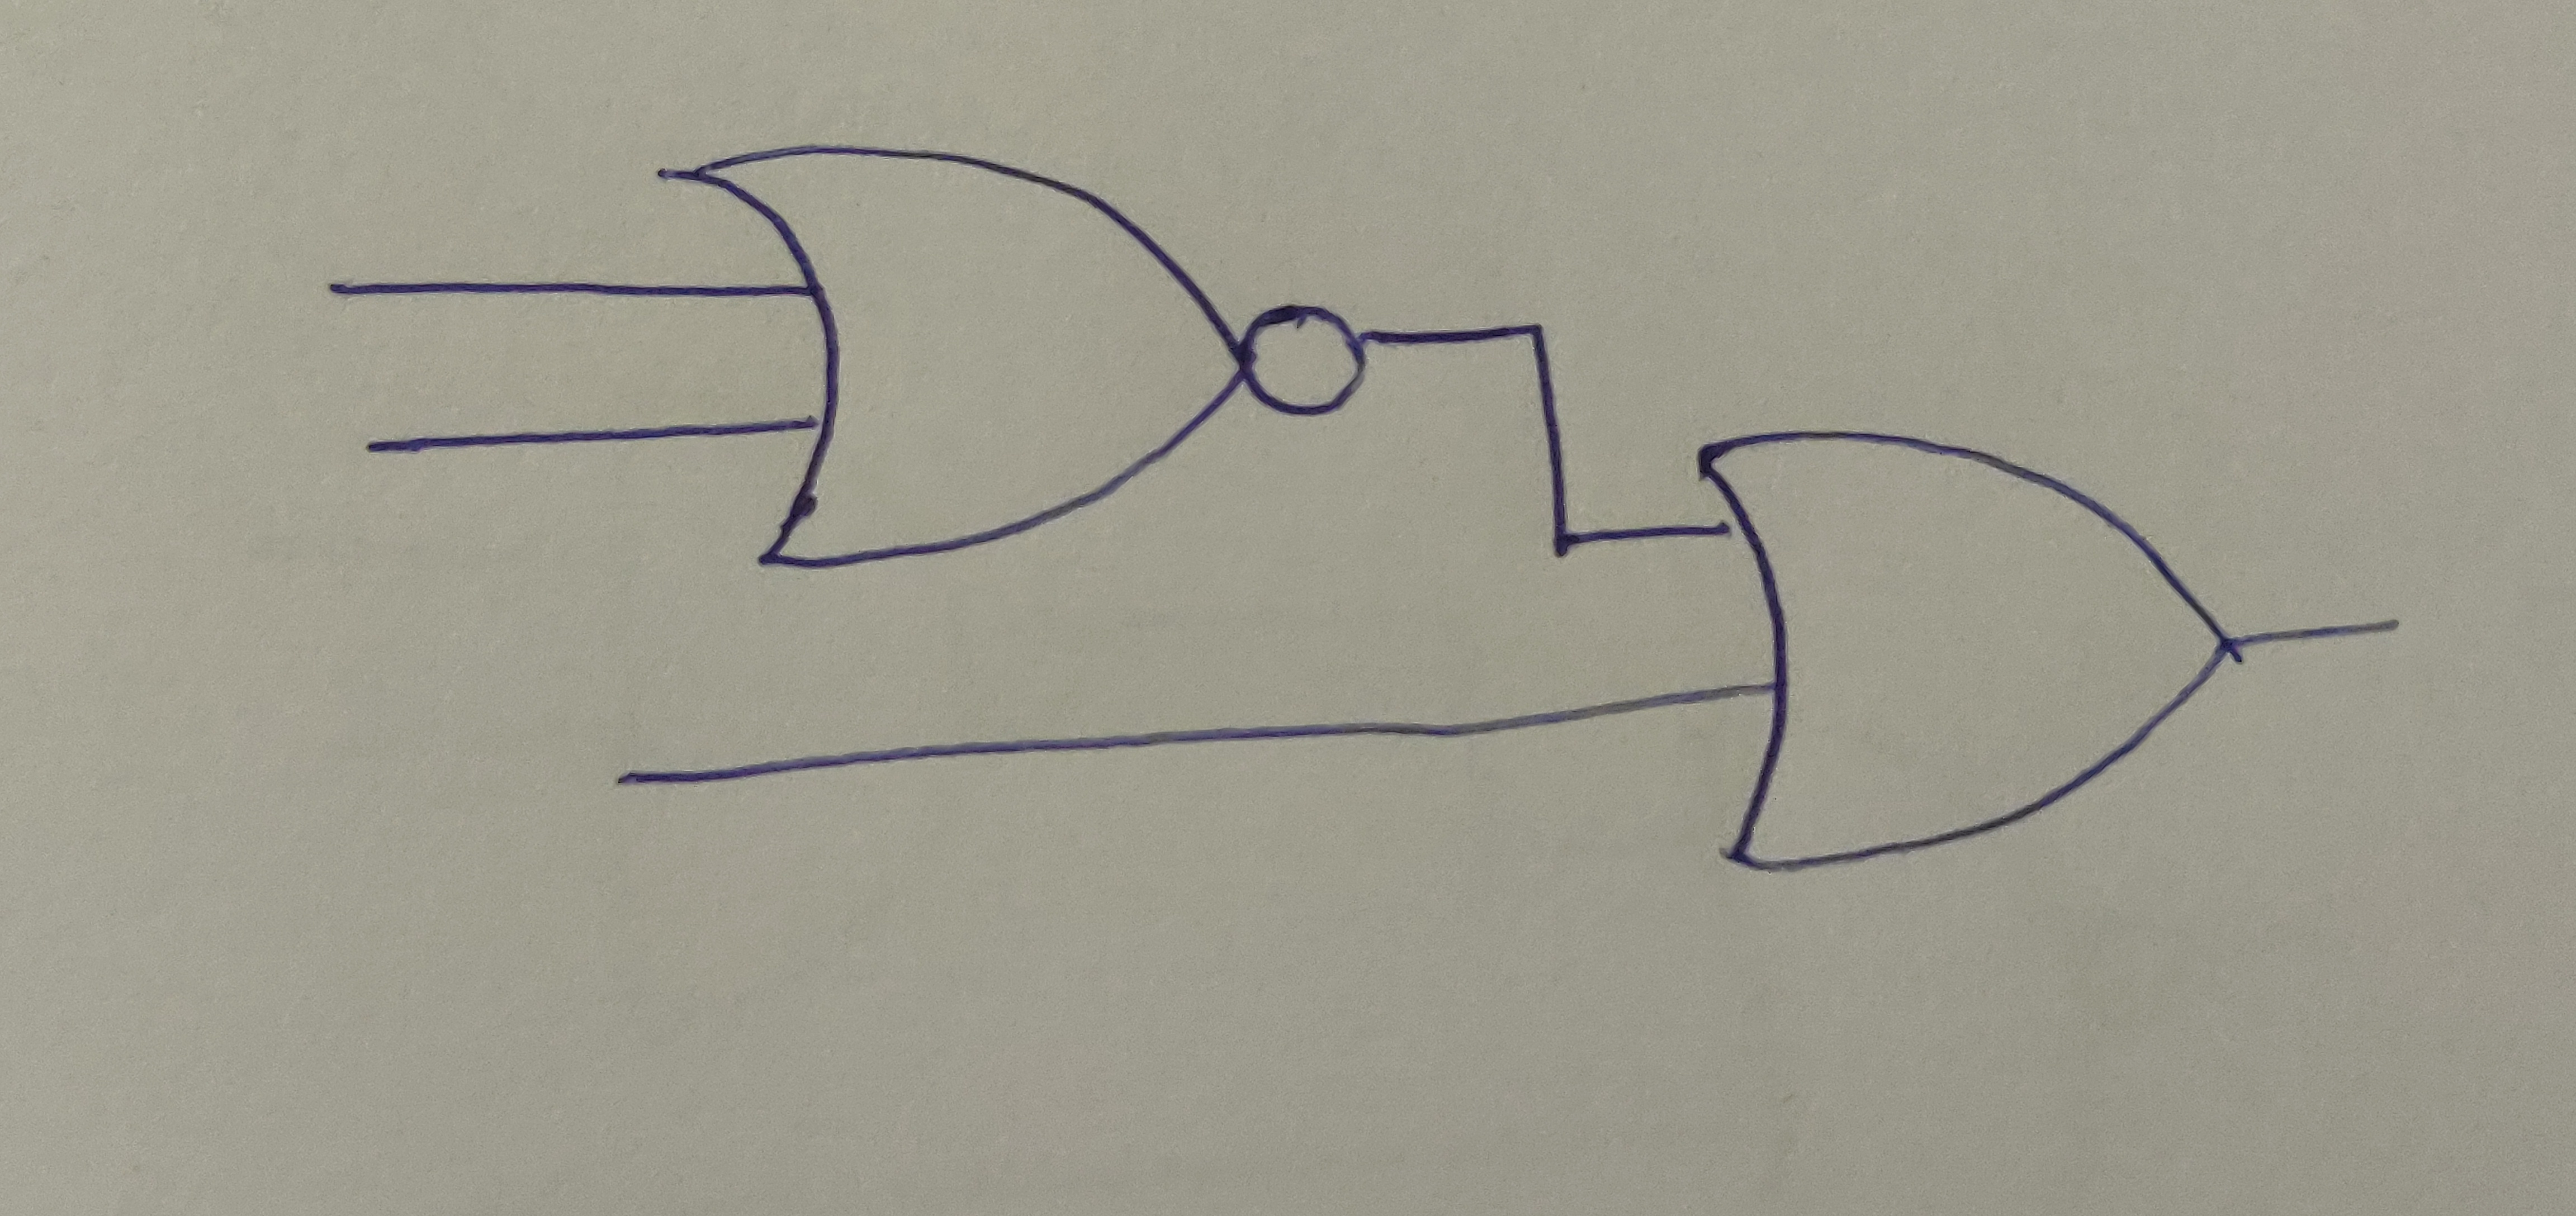not: (1245, 306, 1367, 417)
or: (670, 153, 1250, 572), (1694, 432, 2242, 874)
